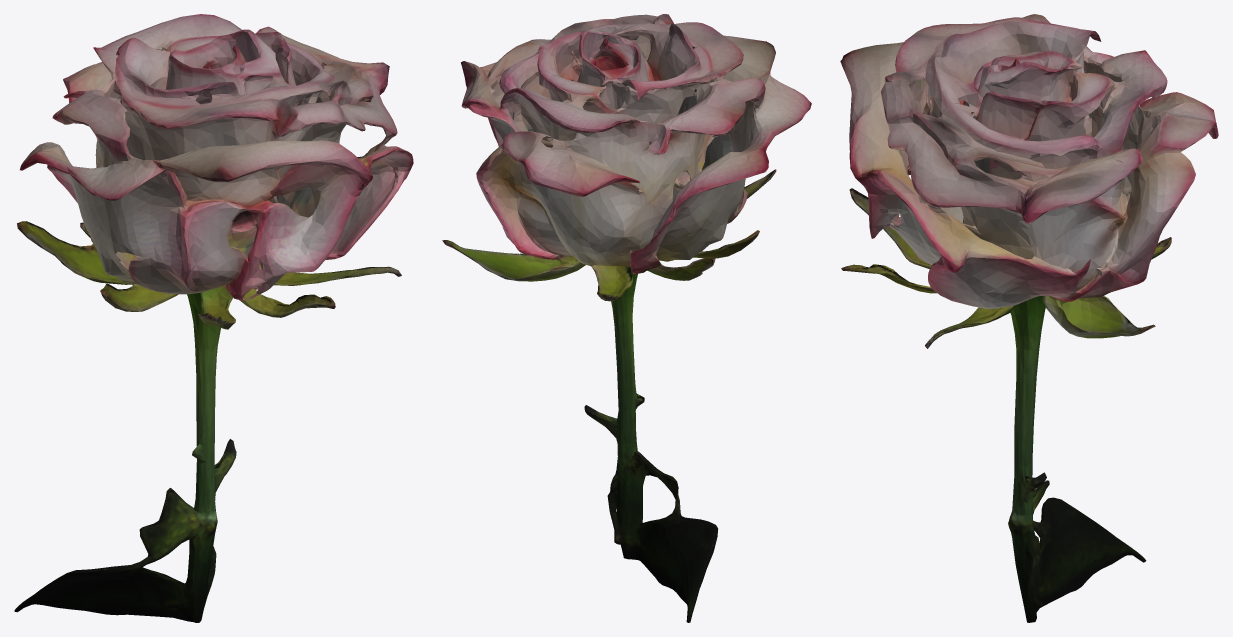
3 views of the same model, side by side, from view 1: azimuth 30°, elevation 25°; view 2: azimuth 150°, elevation 25°; view 3: azimuth 270°, elevation 25° (orthographic). The views are drawn at different scales.
Parts seen in each view (by area): view 1: world; view 2: world; view 3: world.
Part boxes in pixels (x1,y1,x2,y2): world: [14, 14, 413, 622]; world: [442, 14, 811, 622]; world: [840, 14, 1218, 622].
Bounding box in the file's own units: 0.6434 × 0.9994 × 0.5844.
1 material, 1 textured.
